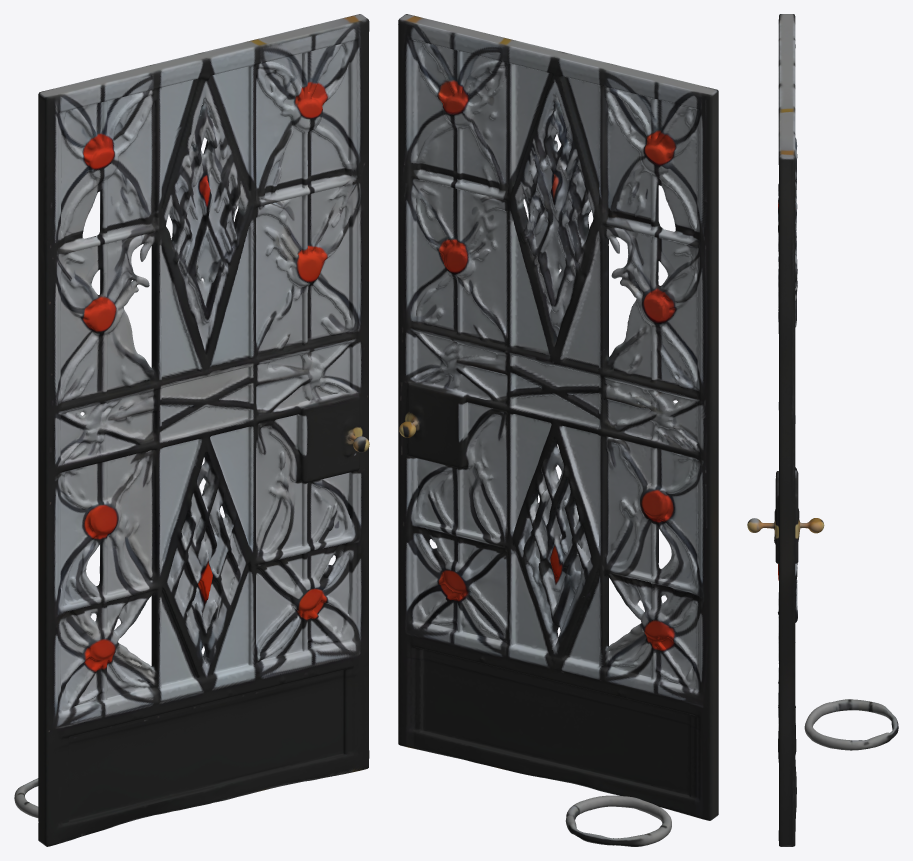
File: puerta1.glb
The picture shows the model from 3 angles, left to right: view 1: azimuth 30°, elevation 25°; view 2: azimuth 150°, elevation 25°; view 3: azimuth 270°, elevation 25°; orthographic projection. The views are drawn at different scales.
Parts seen in each view (by area): view 1: tripo_node_61b0fea8-f5e9-4ebb-b3a6-68f65d1162bf; view 2: tripo_node_61b0fea8-f5e9-4ebb-b3a6-68f65d1162bf; view 3: tripo_node_61b0fea8-f5e9-4ebb-b3a6-68f65d1162bf.
Boxes of the visible parts, x1,y1,x2,y2 form: tripo_node_61b0fea8-f5e9-4ebb-b3a6-68f65d1162bf: [14, 14, 369, 846]; tripo_node_61b0fea8-f5e9-4ebb-b3a6-68f65d1162bf: [398, 14, 718, 846]; tripo_node_61b0fea8-f5e9-4ebb-b3a6-68f65d1162bf: [747, 14, 898, 846].
Size of the model in its own units: 0.4522 by 1 by 0.1987.
Materials: 1 (1 with a texture image).
